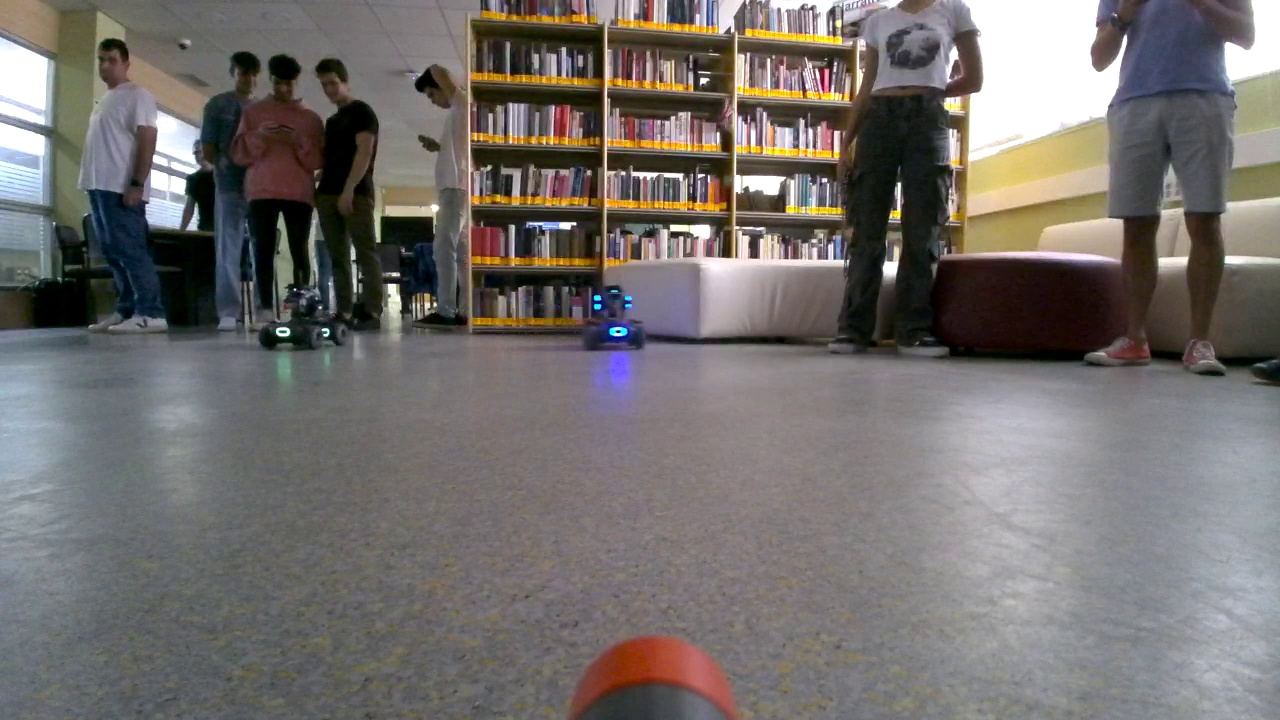robot: (258, 285, 354, 353), (578, 284, 646, 349)
